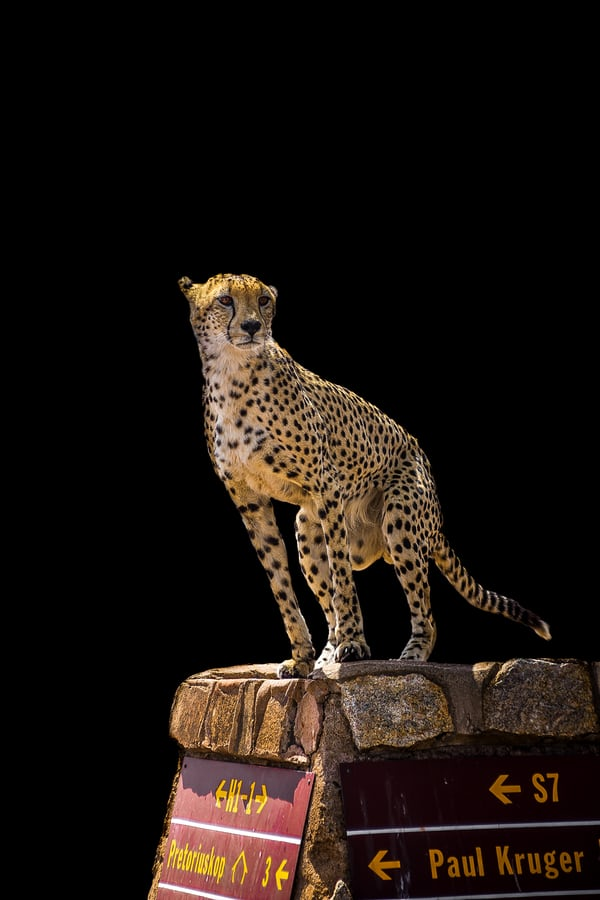cheetah: (175, 256, 290, 369)
